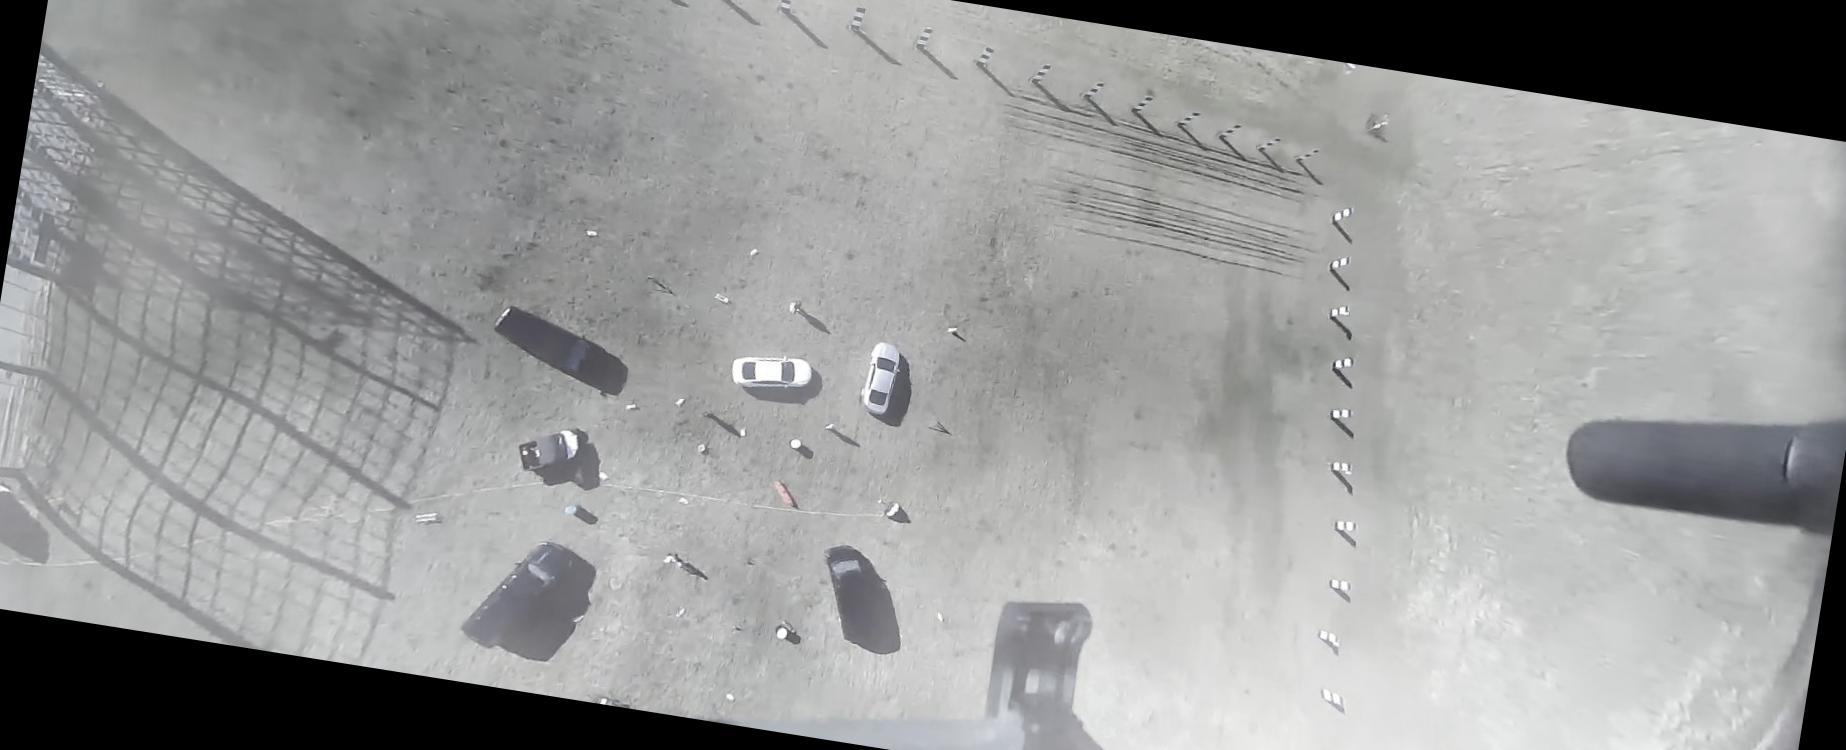vehicle: (458, 531, 575, 661), (487, 305, 615, 385), (811, 543, 896, 649), (728, 347, 814, 396), (514, 422, 583, 479), (857, 339, 903, 417)
